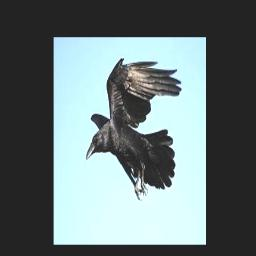Crow: (87, 57, 182, 201)
